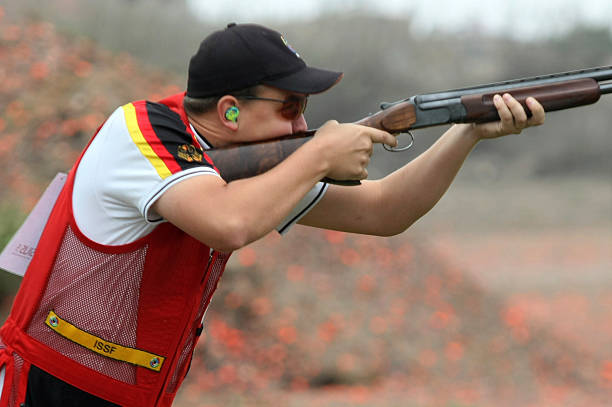shotgun: (195, 62, 610, 183)
